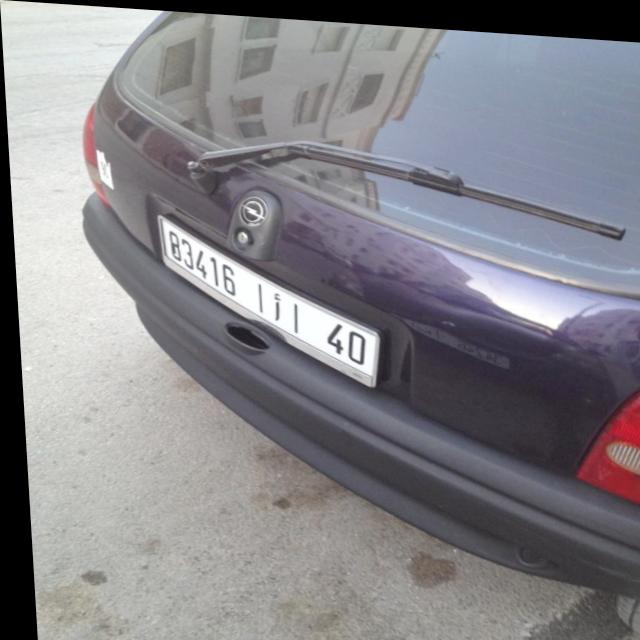License-Plate: (157, 214, 377, 382)
